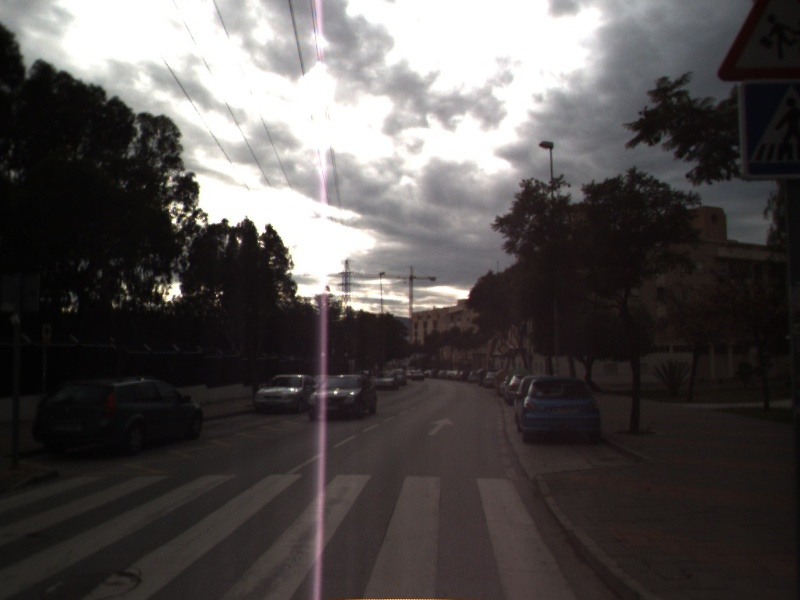STRAIGHT: (425, 416, 456, 438)
